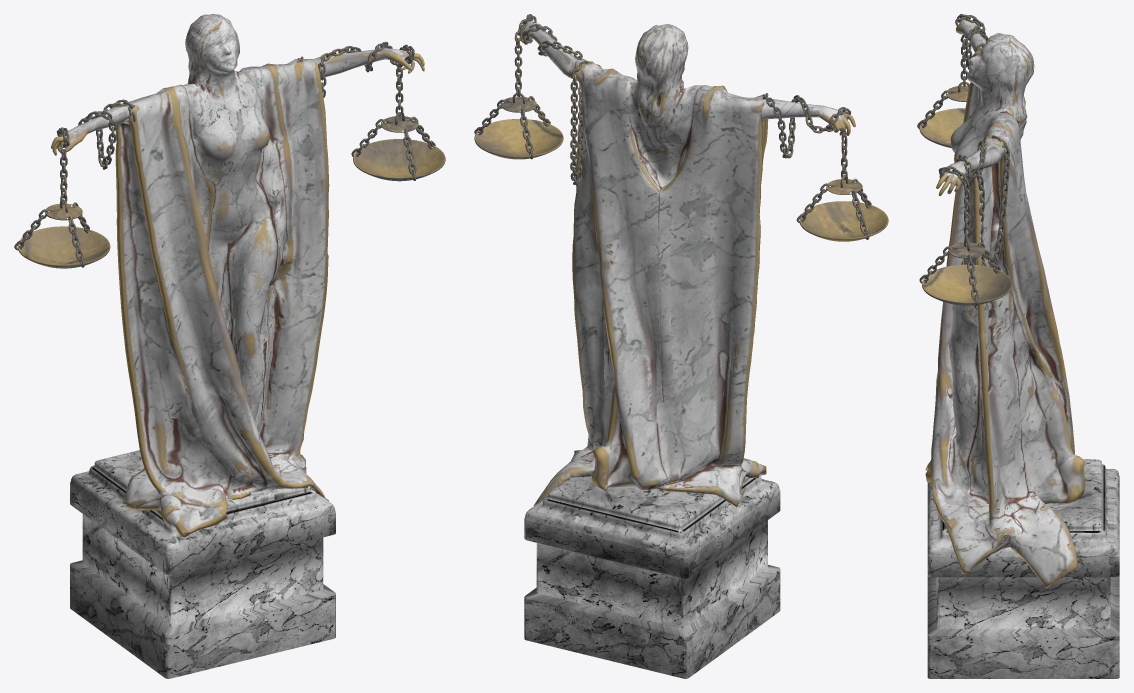
The model's file is themis-draco-transformed.glb.
The picture shows the model from 3 angles, left to right: view 1: azimuth 30°, elevation 25°; view 2: azimuth 150°, elevation 25°; view 3: azimuth 270°, elevation 25°; orthographic projection. The views are drawn at different scales.
Visible parts, largest first — view 1: Themis Sculpture, PEDESTAL, Chains; view 2: Themis Sculpture, PEDESTAL, Chains; view 3: Themis Sculpture, PEDESTAL, Chains.
Boxes of the visible parts, x1,y1,x2,y2 form: Themis Sculpture: (51, 14, 424, 537); PEDESTAL: (70, 450, 335, 678); Chains: (14, 41, 445, 268); Themis Sculpture: (519, 19, 855, 507); PEDESTAL: (524, 474, 780, 678); Chains: (474, 14, 888, 241); Themis Sculpture: (925, 17, 1084, 588); PEDESTAL: (927, 459, 1119, 678); Chains: (917, 14, 1012, 305).
Size of the model in its own units: 1.82 by 2.56 by 0.7801.
Materials: 3 (3 with a texture image).
